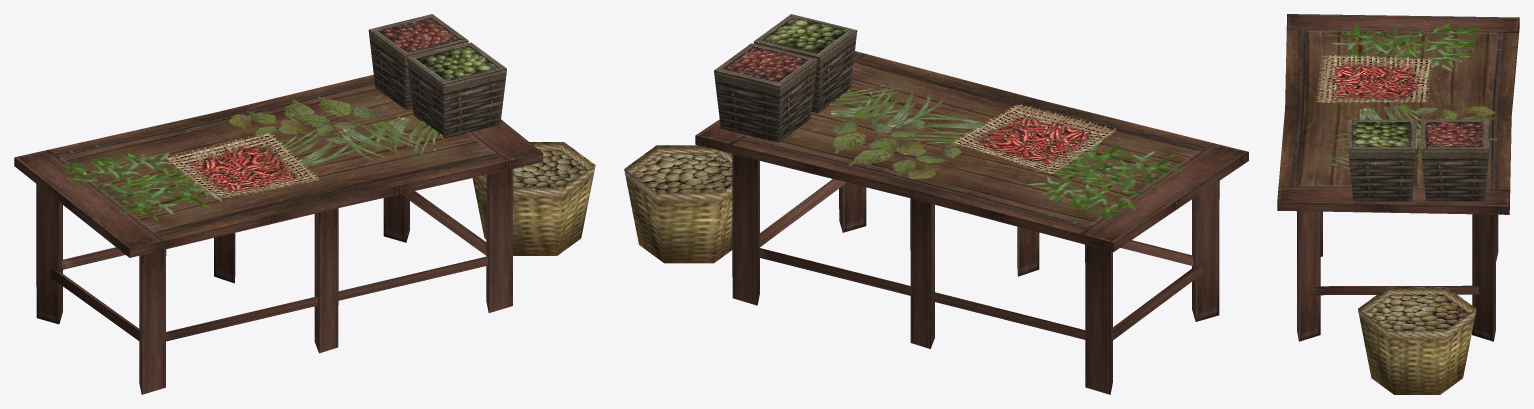
The model's file is yaopu_zhuozi_tyc_60.FBX.
The picture shows the model from 3 angles, left to right: view 1: azimuth 30°, elevation 25°; view 2: azimuth 150°, elevation 25°; view 3: azimuth 270°, elevation 25°; orthographic projection. The views are drawn at different scales.
Visible parts, largest first — view 1: yaopu_zhuozi_tyc_60_ncl1_2, yaopu_lanzi_tyc_60; view 2: yaopu_zhuozi_tyc_60_ncl1_2, yaopu_lanzi_tyc_60; view 3: yaopu_zhuozi_tyc_60_ncl1_2, yaopu_lanzi_tyc_60.
Part boxes in pixels (x1,y1,x2,y2): yaopu_zhuozi_tyc_60_ncl1_2: (14,14,543,394); yaopu_lanzi_tyc_60: (472,142,595,255); yaopu_zhuozi_tyc_60_ncl1_2: (695,14,1248,394); yaopu_lanzi_tyc_60: (624,145,732,263); yaopu_zhuozi_tyc_60_ncl1_2: (1277,14,1519,341); yaopu_lanzi_tyc_60: (1358,287,1476,394).
Size of what is drawn, in the model's own units: 363 by 143 by 155.
